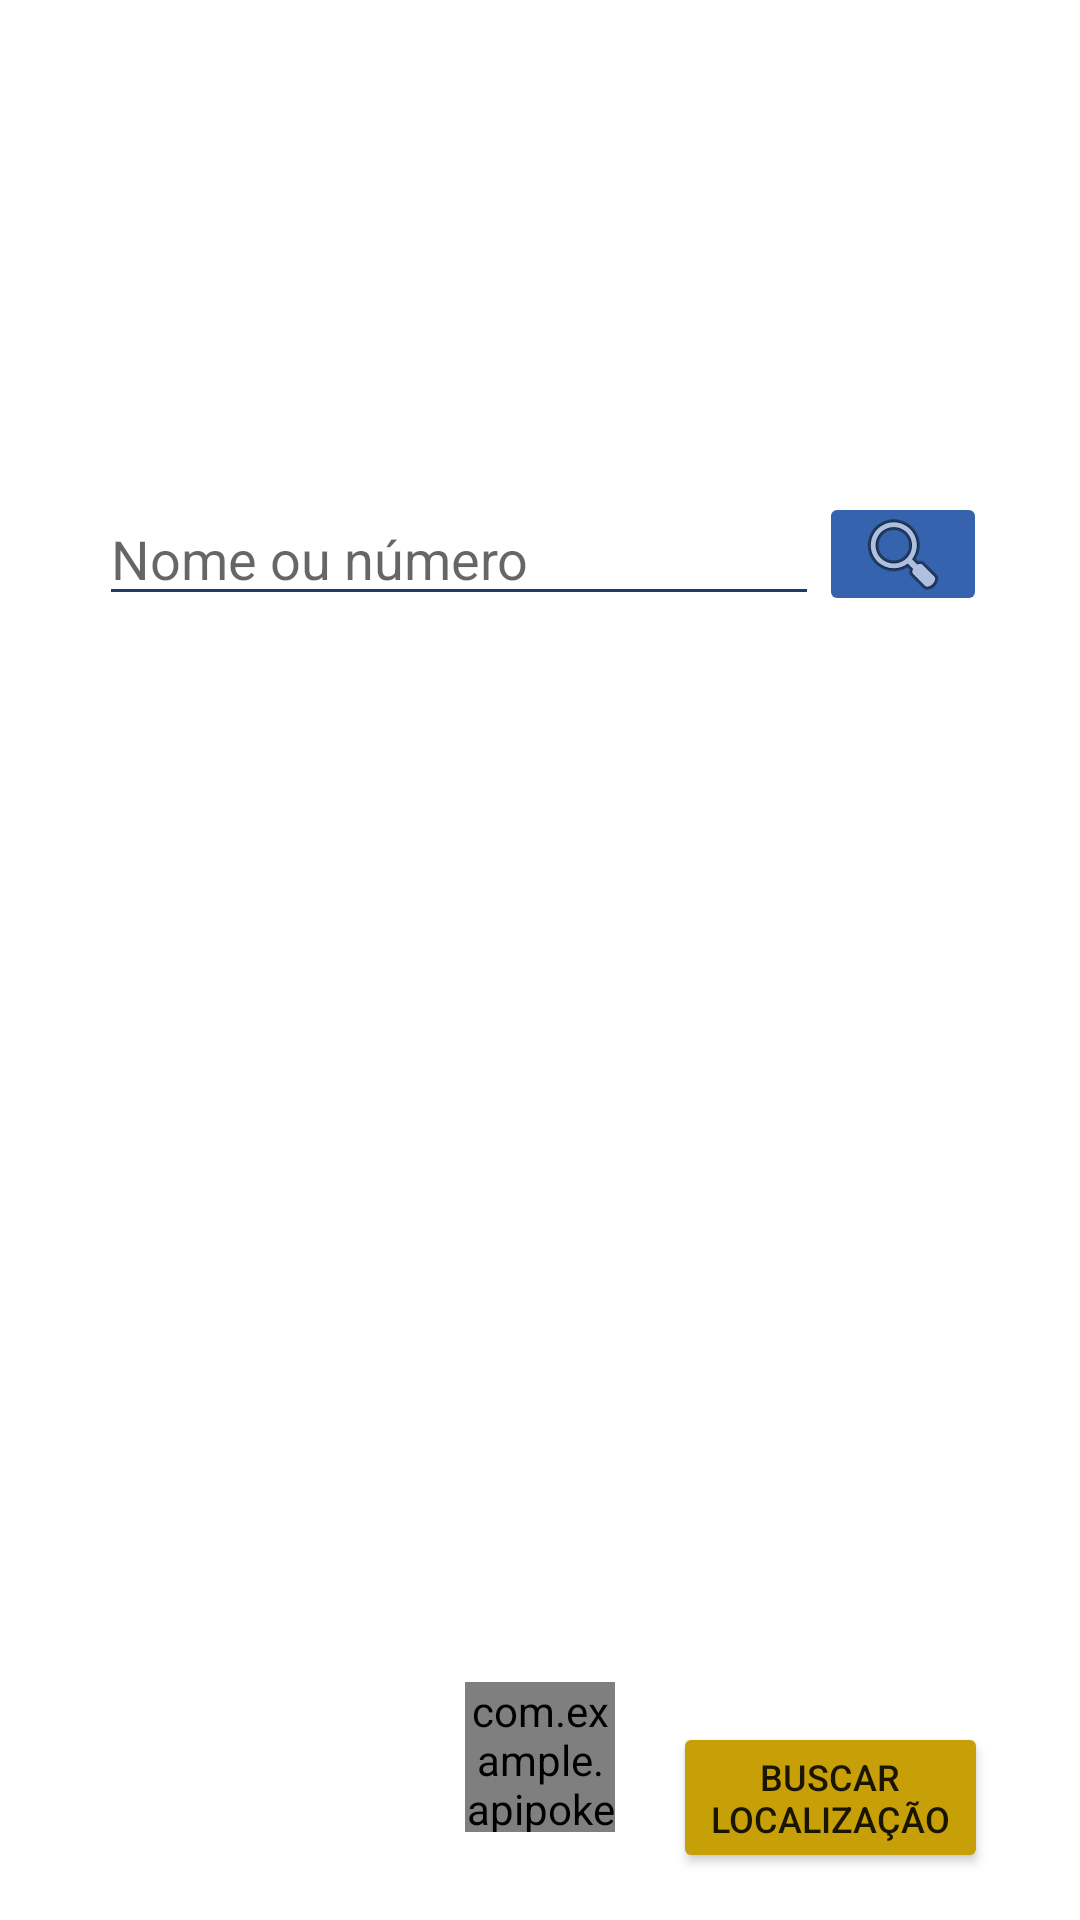

Screen size 1080×1920. Icon name, then its box in pixels as {"left": x1, "top": y1, "right": x2, "bottom": y2}:
icone de busca: {"left": 831, "top": 510, "right": 975, "bottom": 598}
